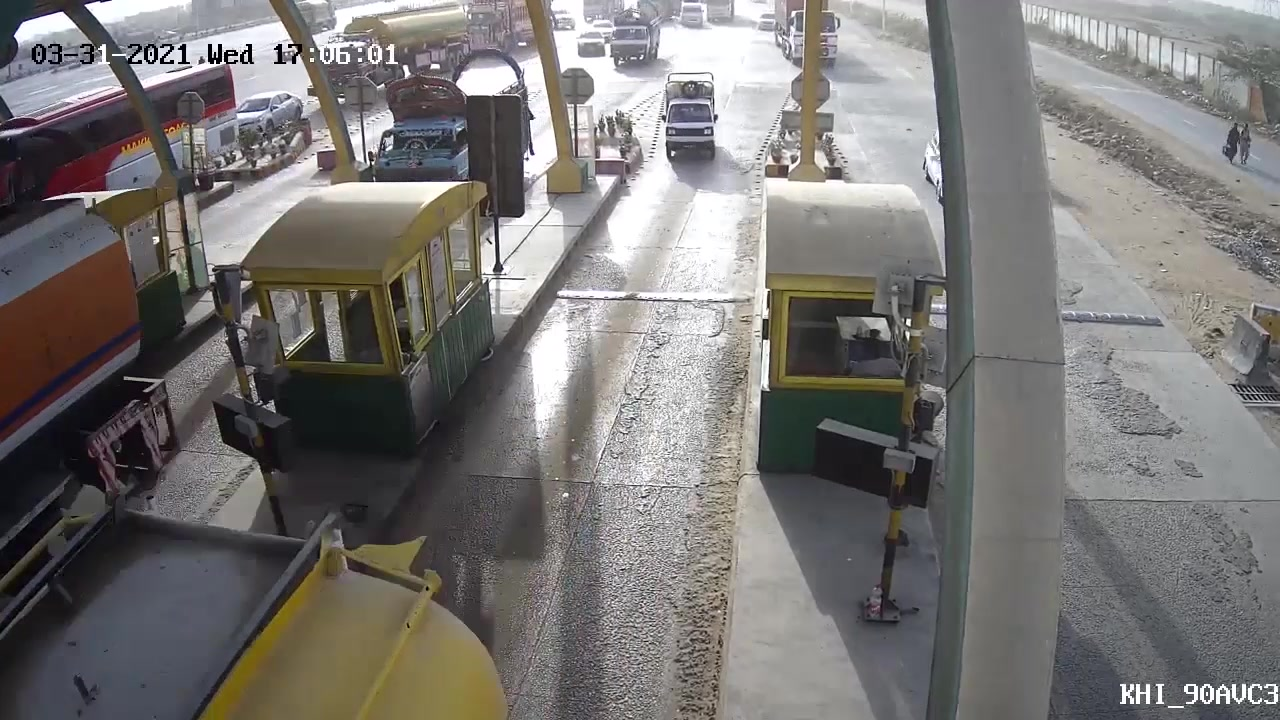F1: (653, 70, 731, 166)
